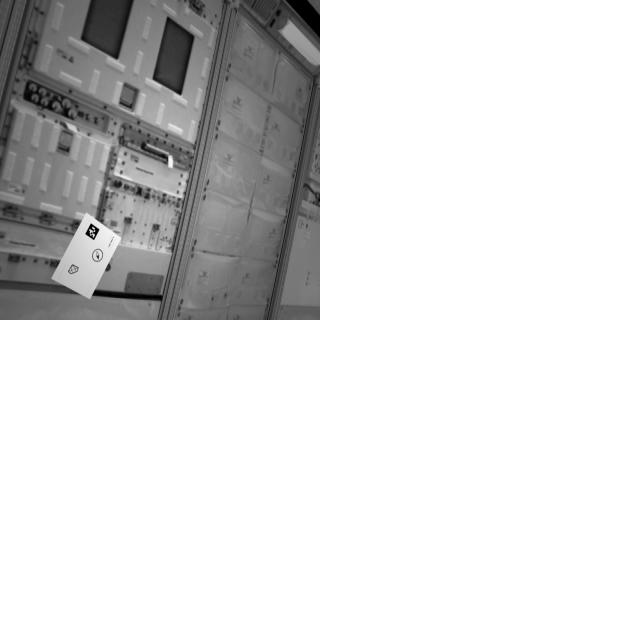compass: (92, 248, 106, 265)
diamond: (67, 264, 83, 277)
